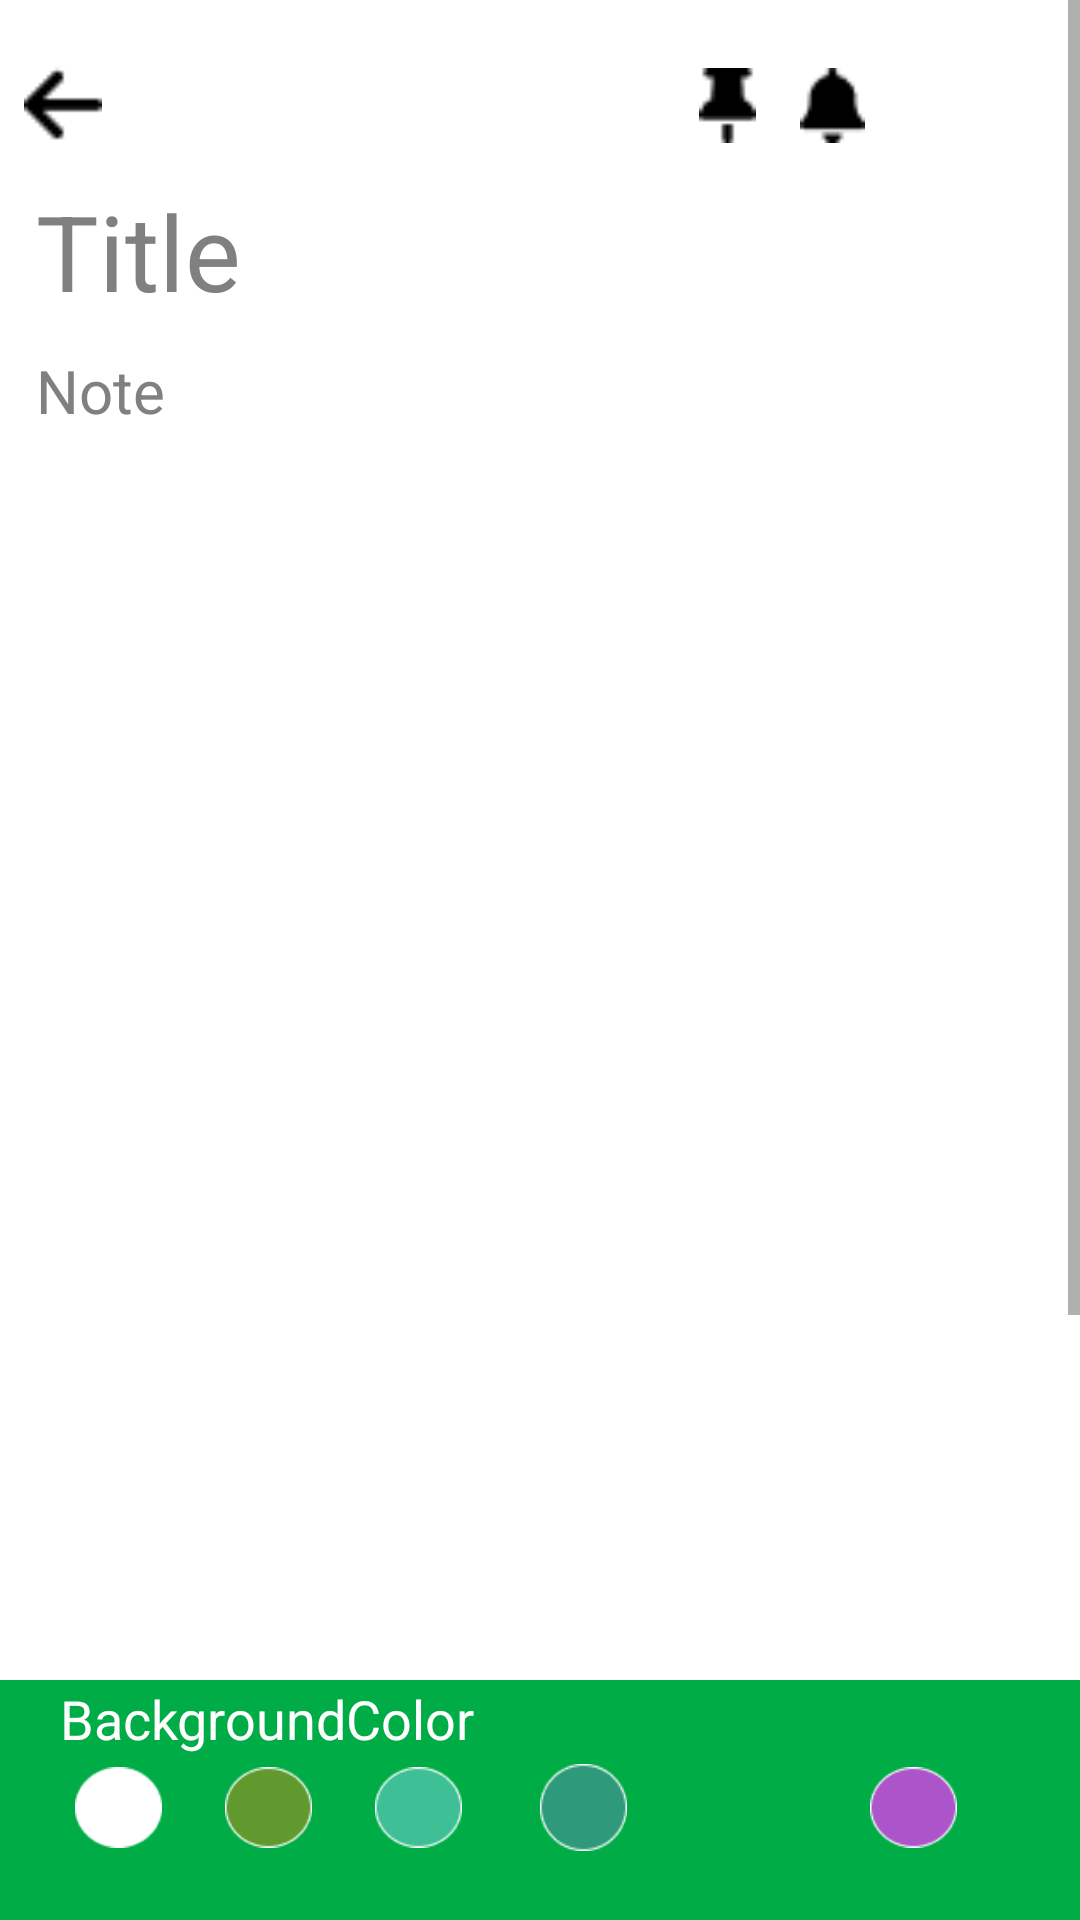

Screen size 1080px×1920px. Icon name, then its center in pixels as (x=x, y=y):
arrow left: (x=63, y=104)
bell: (x=832, y=105)
pin: (x=727, y=105)
